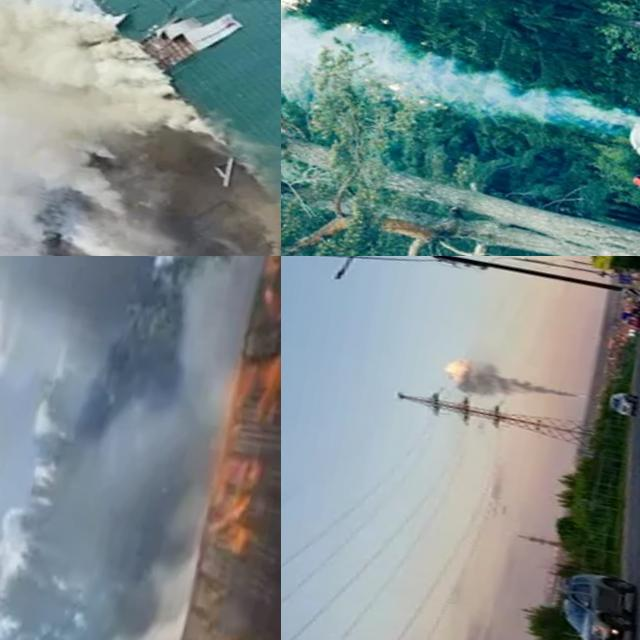smoke: (0, 0, 281, 256), (281, 5, 640, 164), (100, 256, 263, 533), (0, 256, 160, 369), (68, 533, 205, 640), (440, 350, 582, 414)
